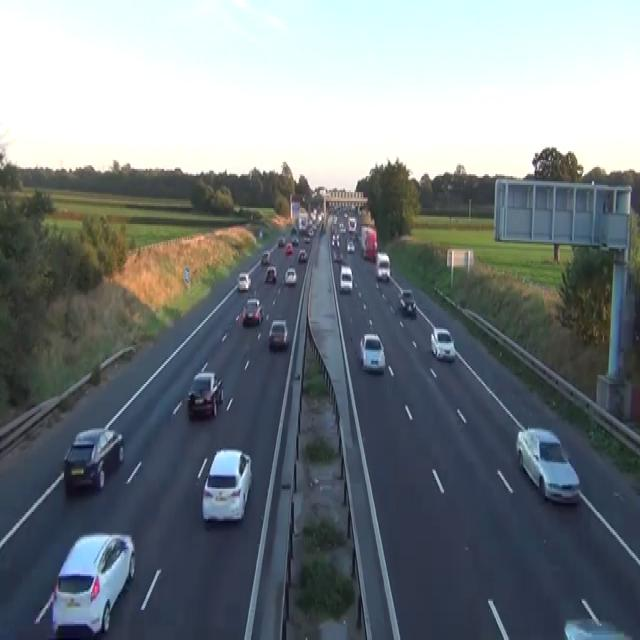Car: (51, 532, 135, 636), (515, 427, 580, 505), (63, 426, 124, 491), (201, 448, 252, 523), (187, 372, 223, 418), (563, 617, 635, 638), (359, 332, 385, 373), (430, 327, 455, 361), (242, 297, 264, 325), (268, 318, 288, 348), (398, 288, 416, 315), (375, 252, 390, 281), (339, 265, 352, 291), (237, 270, 251, 290), (284, 266, 297, 284), (265, 265, 277, 283), (297, 247, 307, 261), (333, 251, 344, 263), (261, 251, 270, 265), (331, 233, 340, 247), (346, 240, 355, 252), (285, 242, 293, 254), (291, 235, 299, 245), (278, 237, 285, 247), (339, 222, 345, 233), (303, 234, 310, 242), (291, 226, 296, 233), (259, 230, 262, 238)
Truck: (360, 224, 377, 261), (298, 212, 308, 231)
